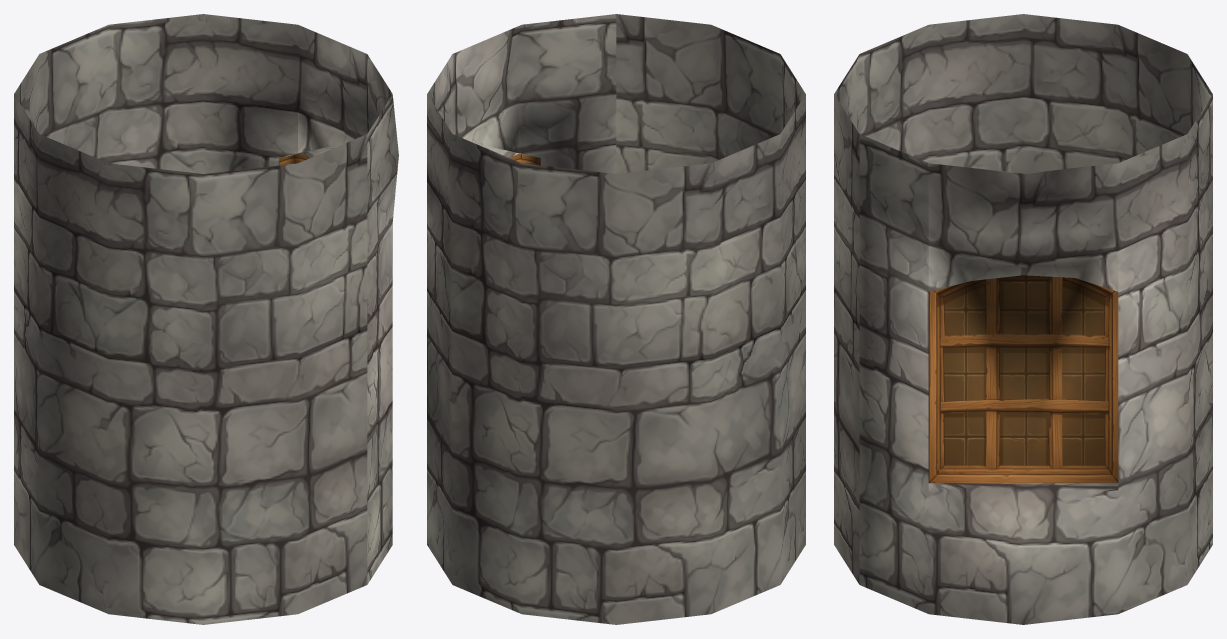
Rendered from TOUR_base.fbx.
3 renders of one model, left to right at view 1: azimuth 30°, elevation 25°; view 2: azimuth 150°, elevation 25°; view 3: azimuth 270°, elevation 25°, orthographic.
Parts seen in each view (by area): view 1: Cylinder; view 2: Cylinder; view 3: Cylinder.
Part boxes in pixels (x1,y1,x2,y2): Cylinder: (14, 14, 398, 624); Cylinder: (427, 14, 805, 624); Cylinder: (834, 14, 1212, 624).
Size of the model in its own units: 200 by 263 by 200.
